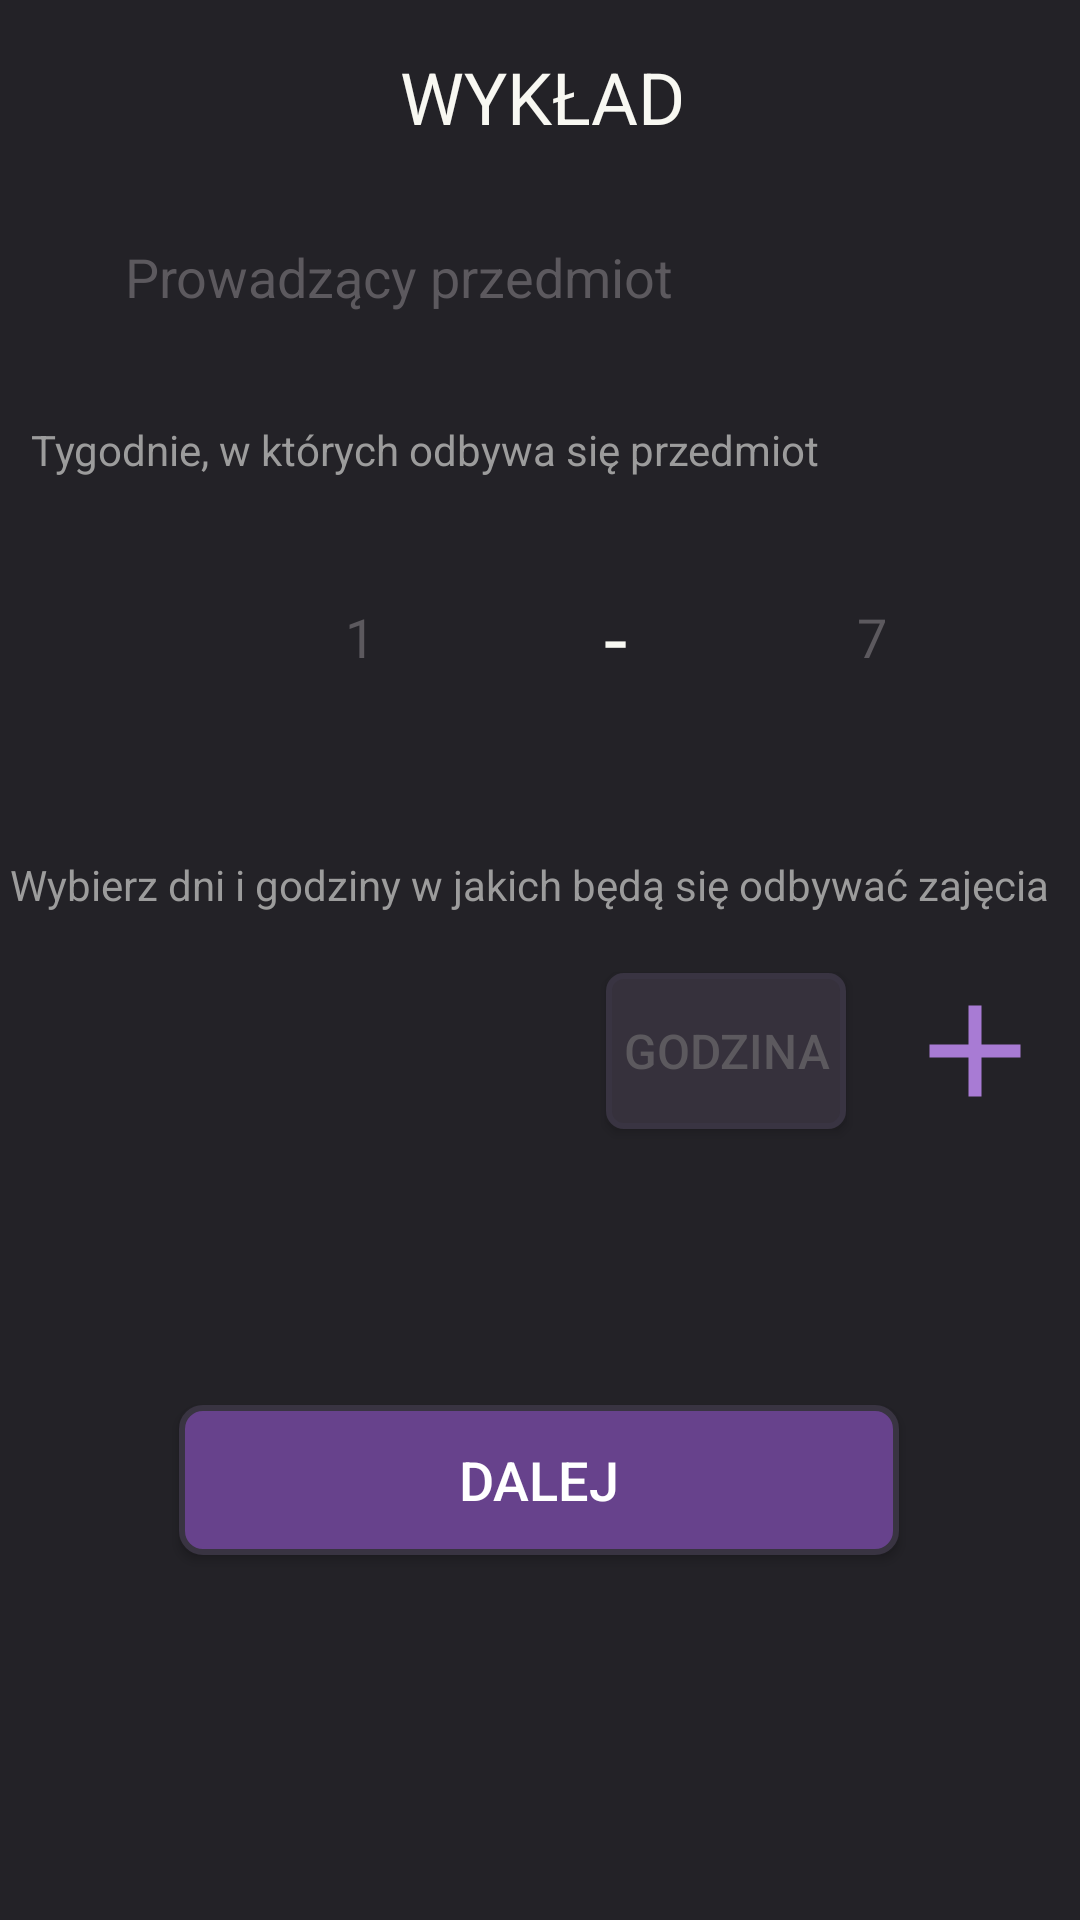

Screen size 1080px x 1920px. Icon name, then its center in pixels as point (x, y):
custom add: point (975, 1051)
